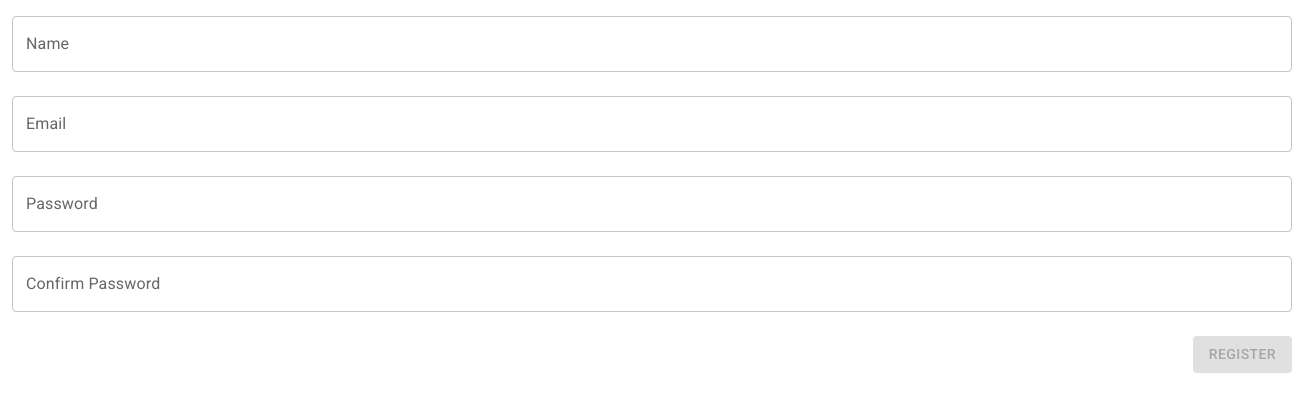
Test: RegisterForm component › should disable register button if any field is empty
Type "John Doe" into the field labelled "Name".
click(652, 44); type("John Doe")  # box [12,16,1292,72]
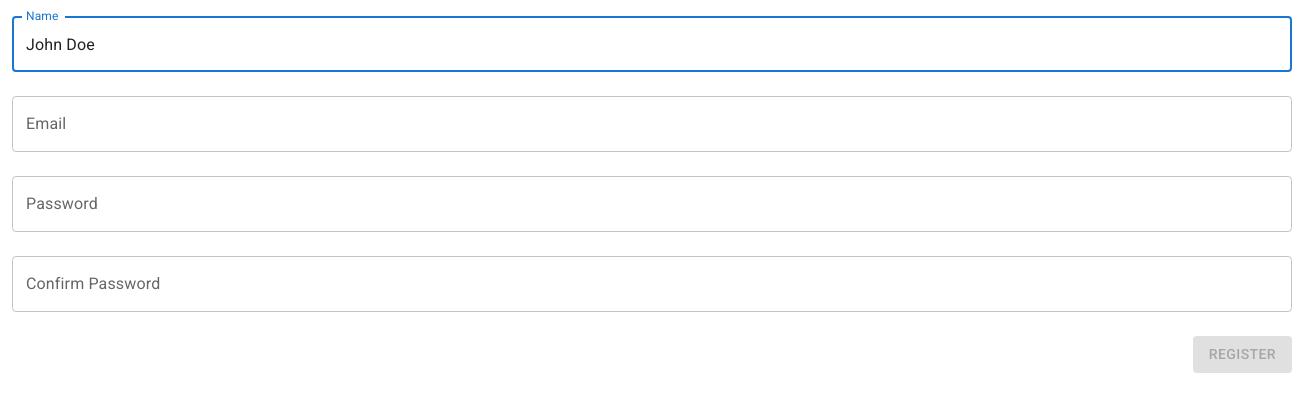
Expected: the button "Register" is disabled, [1193,336,1292,372]
Type "x@test.com" into the field labelled "Email".
click(652, 124); type("x@test.com")  # box [12,96,1292,152]
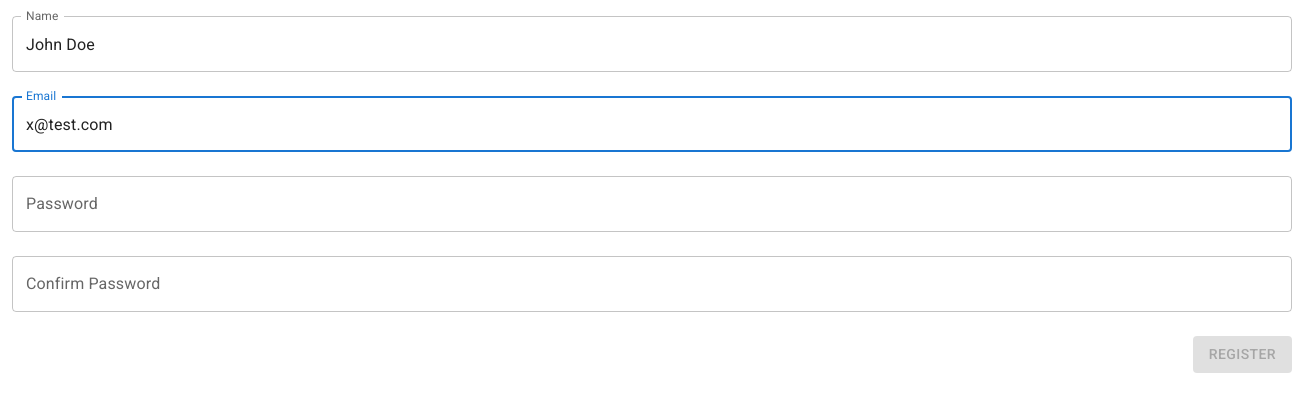
Expected: the button "Register" is disabled, [1193,336,1292,372]
Type "12345678" into the password field labelled "Password".
click(652, 204); type("12345678")  # box [12,176,1292,232]
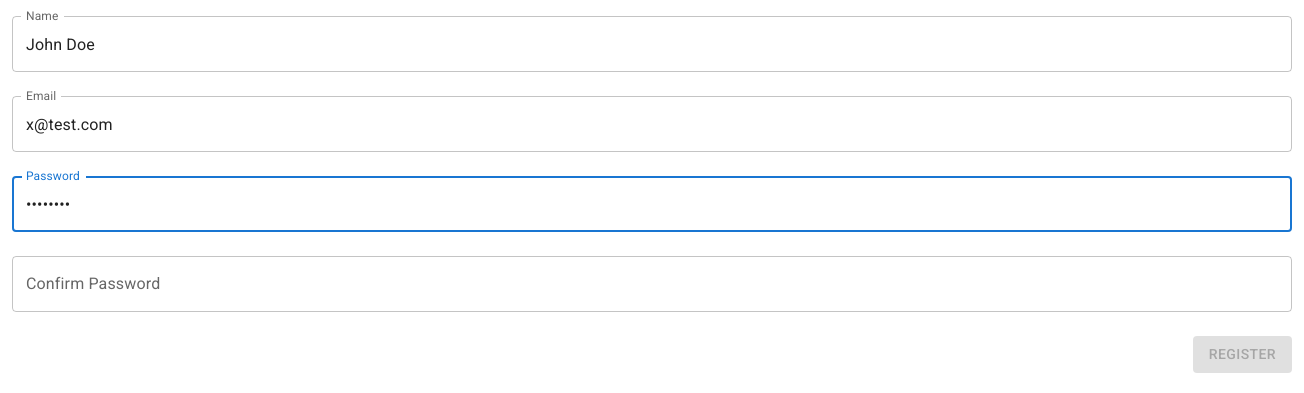
Expected: the button "Register" is disabled, [1193,336,1292,372]
Type "12345678" into the password field labelled "Confirm Password".
click(652, 284); type("12345678")  # box [12,256,1292,312]
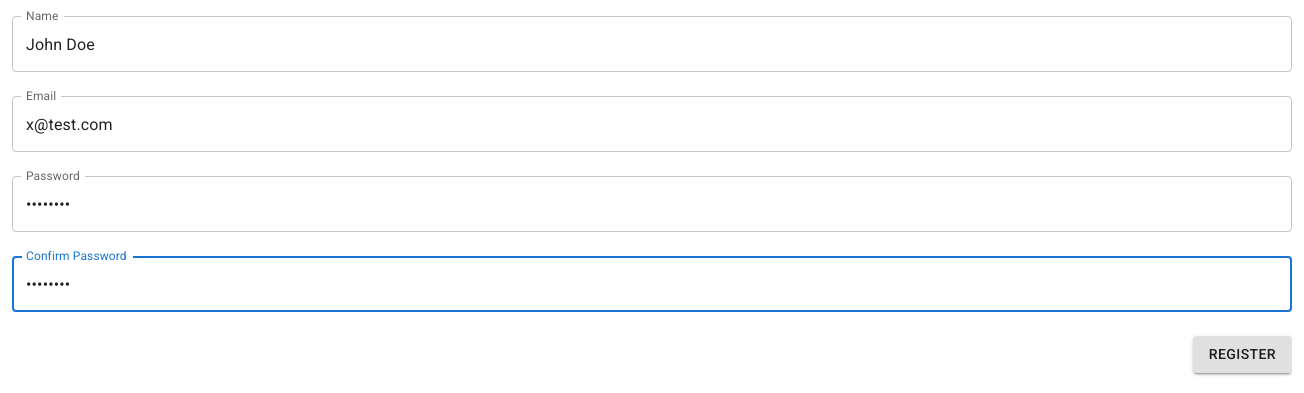
Expected: the button "Register" is enabled, [1193,336,1292,372]
